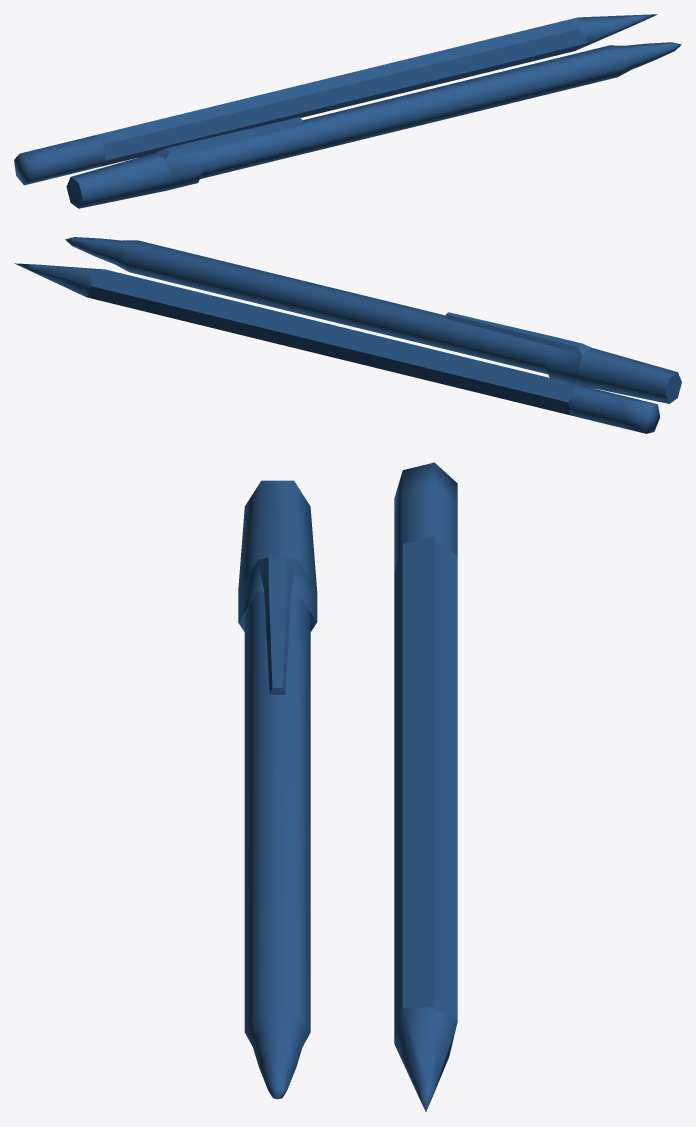
The model's file is stylo-crayon.glb.
3 renders of one model, top to bottom at view 1: azimuth 30°, elevation 25°; view 2: azimuth 150°, elevation 25°; view 3: azimuth 270°, elevation 25°, orthographic. The views are drawn at different scales.
Visible parts, largest first — view 1: Pencil, mePen, PenCap; view 2: Pencil, mePen, PenCap; view 3: Pencil, mePen, PenCap.
Boxes of the visible parts, bbox=[...] form: Pencil: bbox=[14, 14, 657, 185]; mePen: bbox=[197, 42, 681, 178]; PenCap: bbox=[66, 117, 302, 208]; Pencil: bbox=[14, 263, 659, 433]; mePen: bbox=[65, 237, 550, 374]; PenCap: bbox=[445, 312, 681, 403]; Pencil: bbox=[394, 462, 457, 1111]; mePen: bbox=[244, 591, 310, 1099]; PenCap: bbox=[238, 480, 317, 694].
Size of the model in its own units: 0.1989 by 0.0106 by 0.0296.
